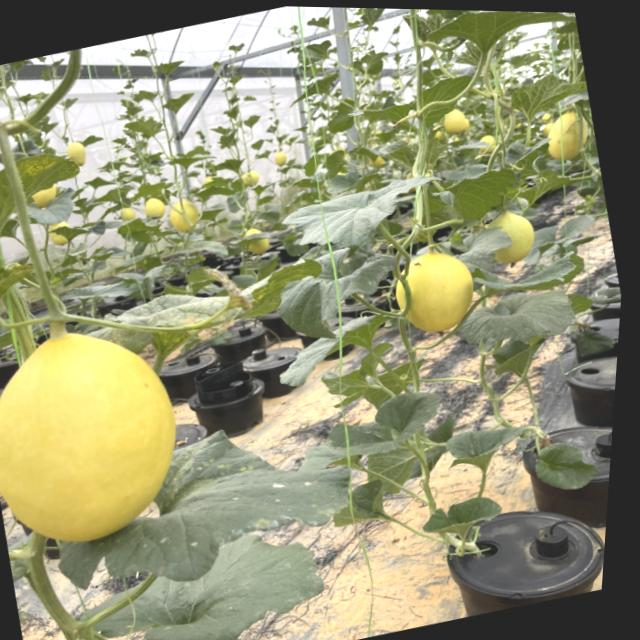CMV: (0, 259, 46, 328)
downy mildew: (33, 398, 373, 612), (61, 249, 334, 373)
healthy: (64, 515, 338, 640), (275, 164, 455, 264), (264, 234, 414, 352), (317, 383, 450, 467), (447, 280, 582, 359), (412, 9, 579, 70), (439, 417, 537, 481), (417, 491, 505, 536)
powdery mildew: (528, 435, 602, 497)
